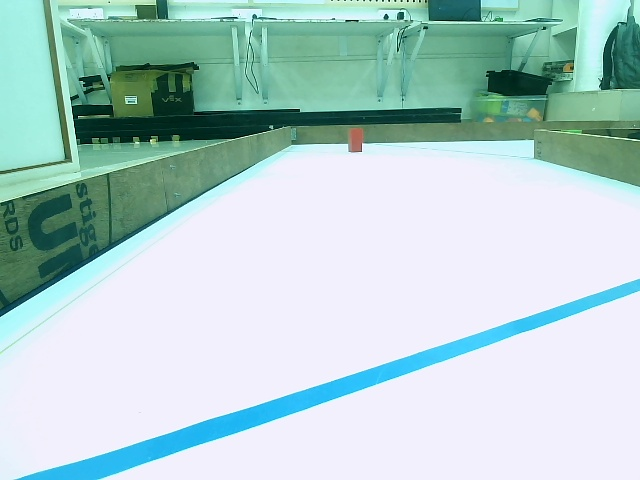red: (348, 127, 363, 152)
